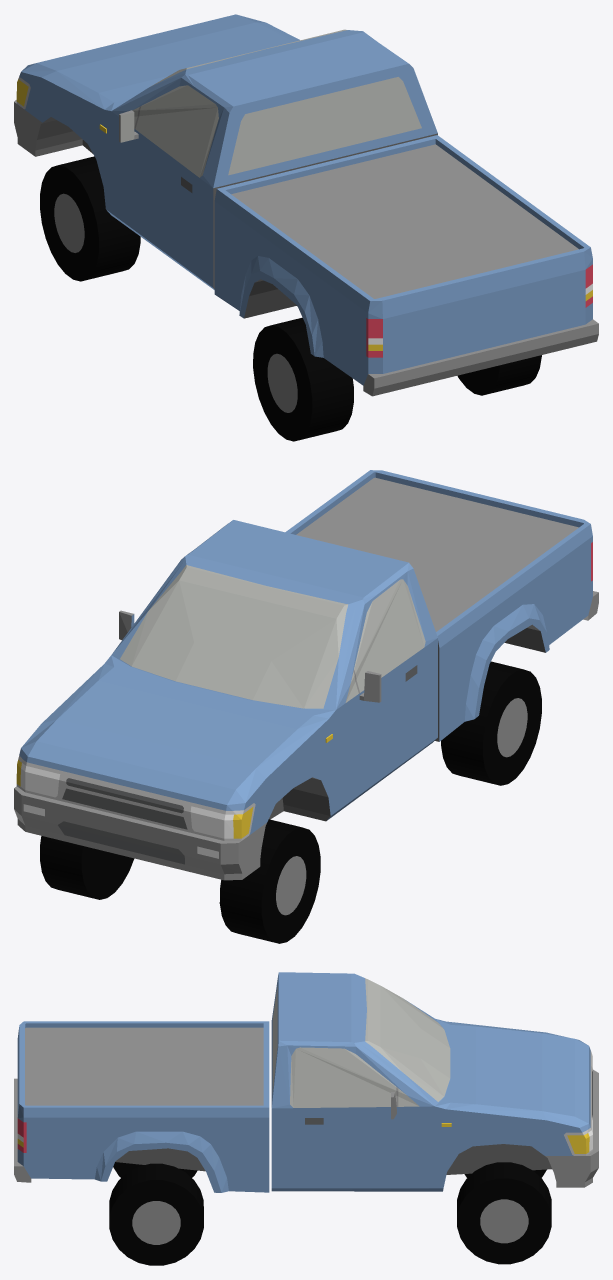
3 views of the same model, one above another, from view 1: azimuth 30°, elevation 25°; view 2: azimuth 150°, elevation 25°; view 3: azimuth 270°, elevation 25° (orthographic). The views are drawn at different scales.
Parts seen in each view (by area): view 1: Mesh1 Model, Mesh5 Model, Mesh4 Model, Mesh2 Model; view 2: Mesh1 Model, Mesh4 Model, Mesh5 Model, Mesh3 Model; view 3: Mesh1 Model, Mesh3 Model, Mesh2 Model.
Part boxes in pixels (x1=…): Mesh1 Model: x1=14, y1=14, x2=598, y2=396; Mesh5 Model: x1=253, y1=317, x2=353, y2=441; Mesh4 Model: x1=40, y1=156, x2=140, y2=281; Mesh2 Model: x1=457, y1=355, x2=541, y2=395; Mesh1 Model: x1=14, y1=470, x2=598, y2=880; Mesh4 Model: x1=219, y1=819, x2=320, y2=943; Mesh5 Model: x1=441, y1=661, x2=541, y2=785; Mesh3 Model: x1=40, y1=836, x2=134, y2=899; Mesh1 Model: x1=14, y1=972, x2=598, y2=1192; Mesh3 Model: x1=457, y1=1162, x2=551, y2=1264; Mesh2 Model: x1=109, y1=1163, x2=203, y2=1265.
Bounding box in the file's own units: 134 × 132 × 326.
